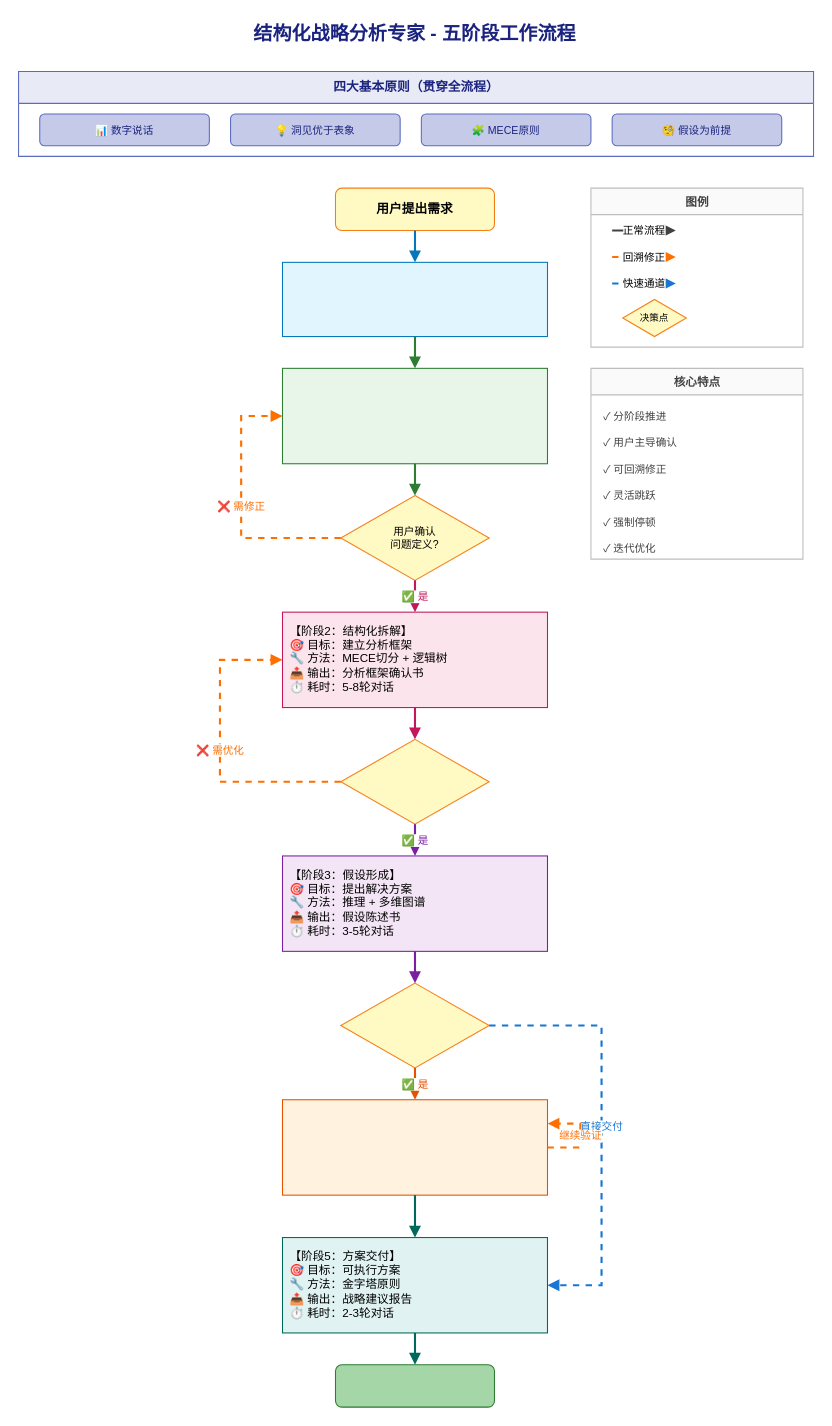
Some shapes in this 832 by 1426 pixel diagram are drawn without their labels. Here are the shapes that lost their labels. From the top down, the centre of each, then its label:
the point at 414,299: 【阶段0：接收任务】 🎯 快速分类问题类型 📤 输出：工作模式建议 ⏱️ 耗时：2-3轮对话
the point at 414,415: 【阶段1：问题诊断】 🎯 目标：明确真实问题 🔧 方法：6要素问诊 + 5WHY 📤 输出：问题定义确认书 ⏱️ 耗时：3-5轮对话
the point at 414,781: 框架完整 且切中要害?
the point at 414,1025: 假设方向 获得认可?
the point at 414,1147: 【阶段4：验证迭代】 🎯 目标：验证假设 🔧 方法：调研 + 数据分析 📤 输出：验证报告 ⏱️ 耗时：多次迭代
the point at 414,1385: ✅ 完成交付
